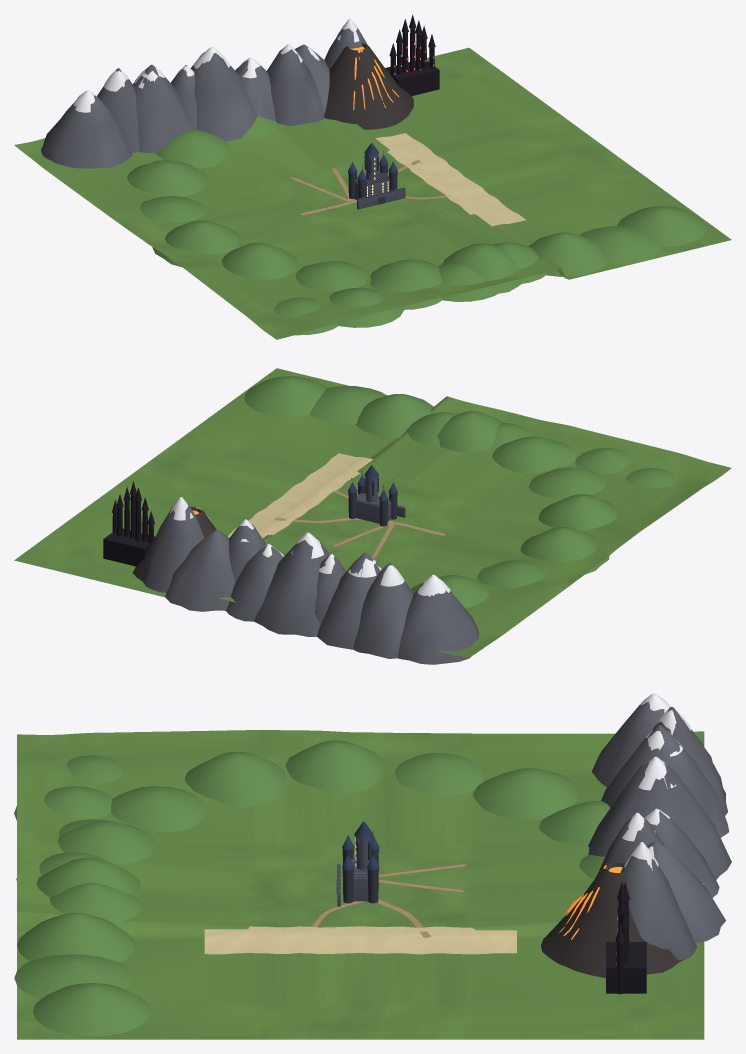
The model's file is field.glb.
3 renders of one model, top to bottom at view 1: azimuth 30°, elevation 25°; view 2: azimuth 150°, elevation 25°; view 3: azimuth 270°, elevation 25°, orthographic. The views are drawn at different scales.
Parts seen in each view (by area): view 1: fld_ground, fld_horizon, fld_beach, fld_castle, fld_roads; view 2: fld_ground, fld_horizon, fld_beach, fld_castle, fld_roads; view 3: fld_ground, fld_horizon, fld_beach, fld_castle, fld_roads.
Part boxes in pixels (box(x1,y1,x2,y2)): fld_ground: box(14, 47, 731, 339); fld_horizon: box(41, 14, 706, 335); fld_beach: box(375, 133, 525, 226); fld_castle: box(348, 143, 405, 209); fld_roads: box(290, 160, 446, 215); fld_ground: box(14, 368, 731, 657); fld_horizon: box(103, 376, 677, 664); fld_beach: box(227, 453, 372, 538); fld_castle: box(348, 465, 405, 526); fld_roads: box(275, 490, 445, 557); fld_ground: box(17, 730, 704, 1039); fld_horizon: box(14, 693, 731, 1036); fld_beach: box(204, 926, 516, 954); fld_castle: box(336, 821, 379, 906); fld_roads: box(311, 856, 466, 937).
Bounding box in the file's own units: 440 × 74.86 × 460.
